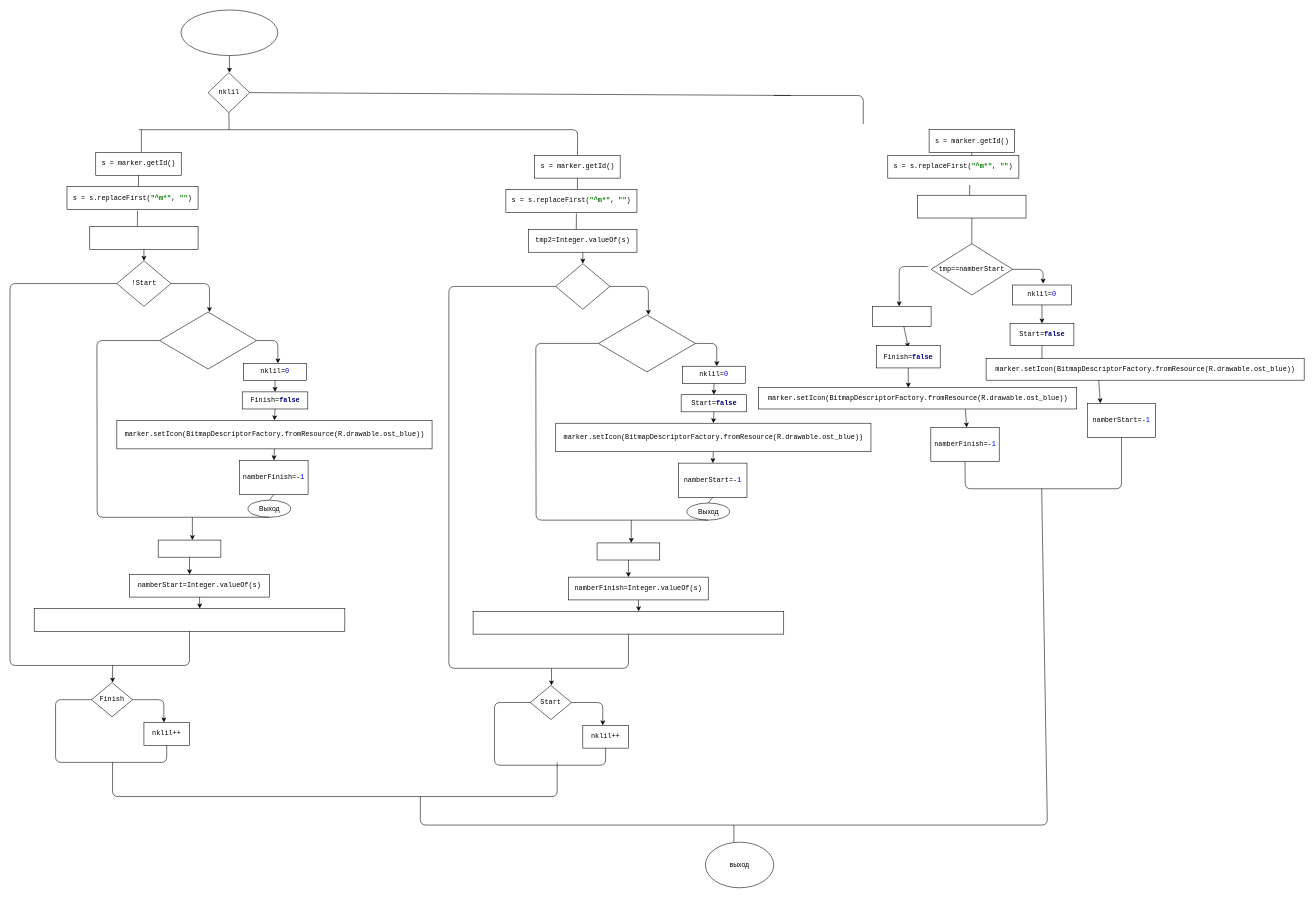
The diagram is 1314 pixels wide and 898 high, and some of its shapes have lost their labels. The centre of each missing label's shape, as x and y in pixels:
!Finish: the point at 582,286
Finish= true ;: the point at 628,551
marker.setIcon(BitmapDescriptorFactory.fromResource(R.drawable.ost_green): the point at 628,622
marker.setIcon(BitmapDescriptorFactory.fromResource(R.drawable.ost_red)): the point at 189,619
nklil= 1: the point at 901,316
onMarkerClick(marker): the point at 229,32
Start= true: the point at 189,548
tmp1==namberFinish: the point at 207,340
tmp1=Integer.valueOf(s): the point at 143,237
tmp2==namberStart: the point at 646,343
tmp=Integer.valueOf(s): the point at 971,206
